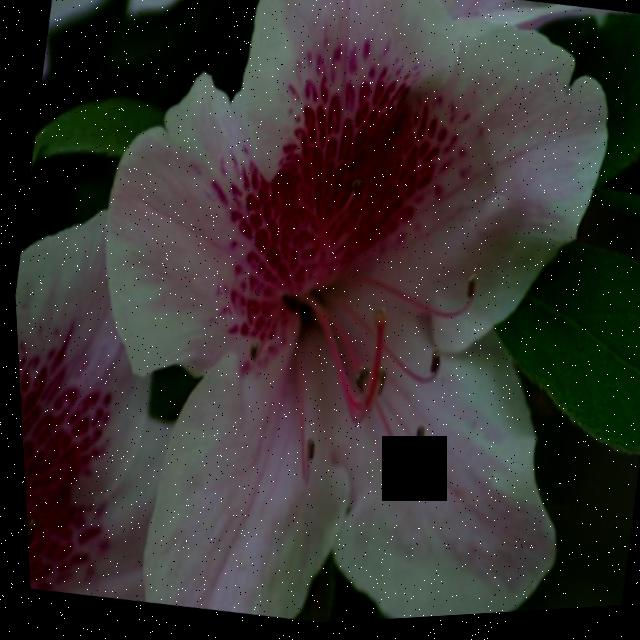azalea: (24, 0, 640, 639)
